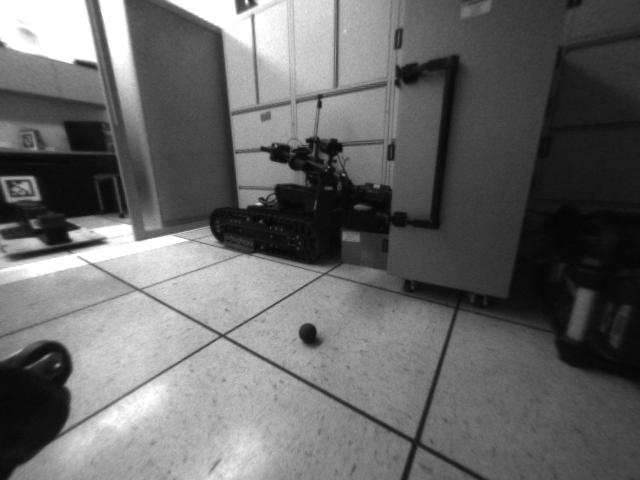dogtoy: (296, 317, 327, 352)
